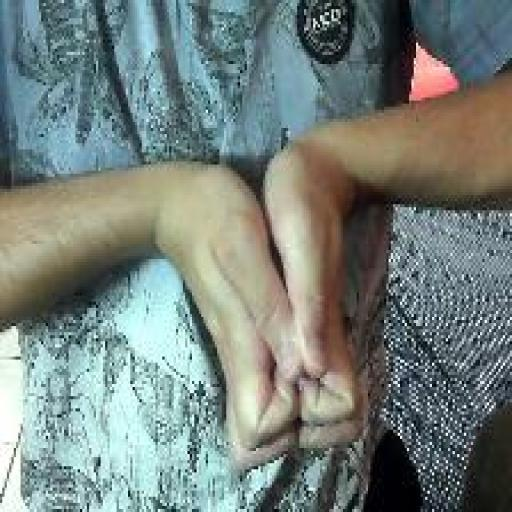I -boar-: (167, 140, 366, 479)
